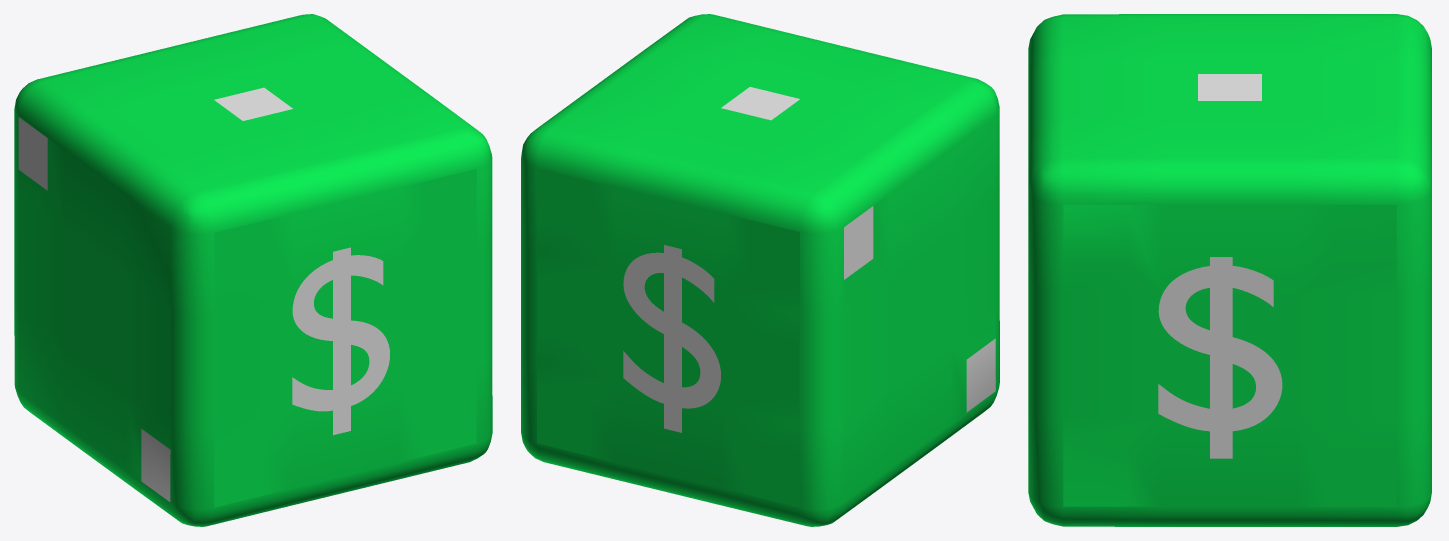
Rendered from DebtDice2.fbx.
The picture shows the model from 3 angles, left to right: view 1: azimuth 30°, elevation 25°; view 2: azimuth 150°, elevation 25°; view 3: azimuth 270°, elevation 25°; orthographic projection. The views are drawn at different scales.
Parts seen in each view (by area): view 1: Debt; view 2: Debt; view 3: Debt.
Boxes of the visible parts, left/top/right/bottom form: Debt: left=14, top=14, right=492, bottom=526; Debt: left=521, top=14, right=999, bottom=526; Debt: left=1028, top=14, right=1431, bottom=526.
Size of the model in its own units: 201 by 200 by 202.
